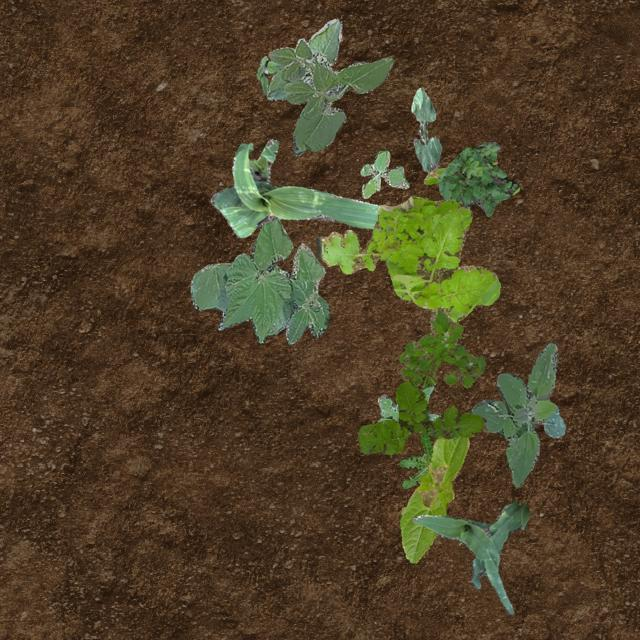crop: (264, 18, 392, 154), (190, 218, 326, 342), (210, 138, 378, 236), (410, 500, 530, 614), (398, 434, 468, 562), (410, 86, 440, 174)
weed: (314, 158, 500, 320), (468, 342, 564, 486), (356, 379, 486, 454), (398, 304, 484, 386), (436, 140, 518, 216), (376, 384, 439, 422), (360, 150, 408, 198), (398, 432, 432, 488), (256, 54, 280, 92)
